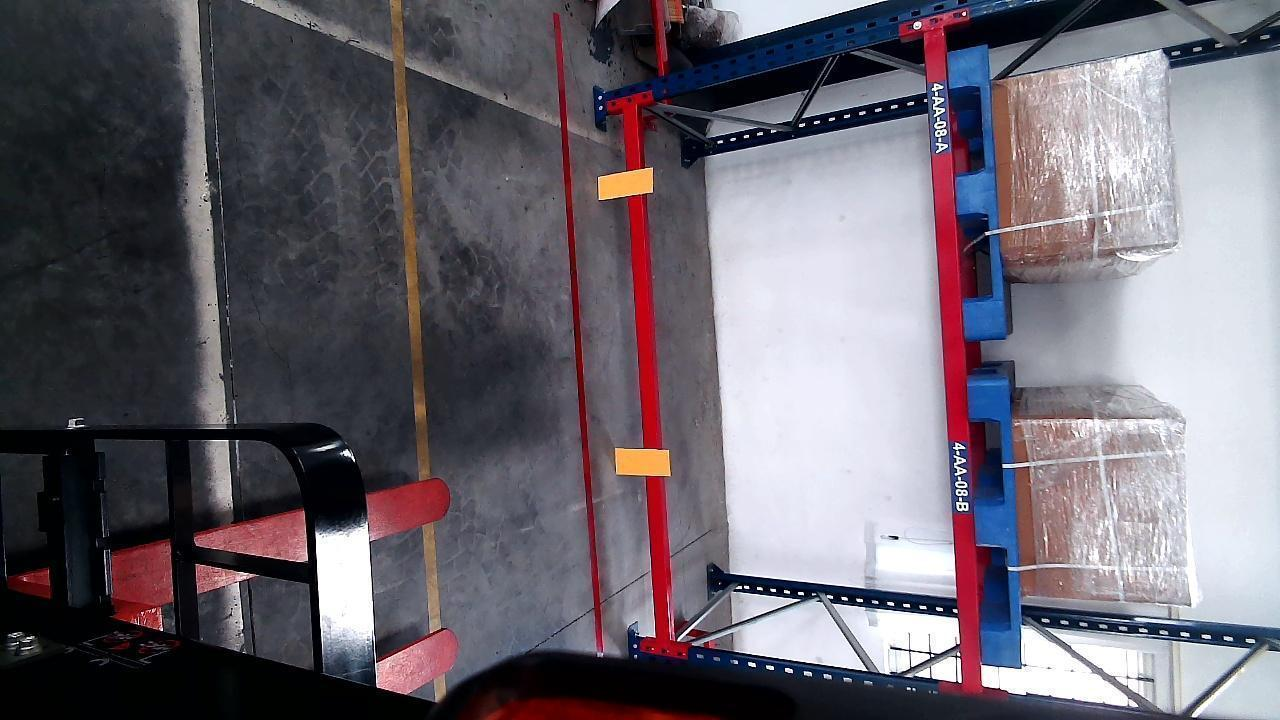red_line: (551, 9, 608, 653)
yellow_line: (390, 6, 450, 706)
